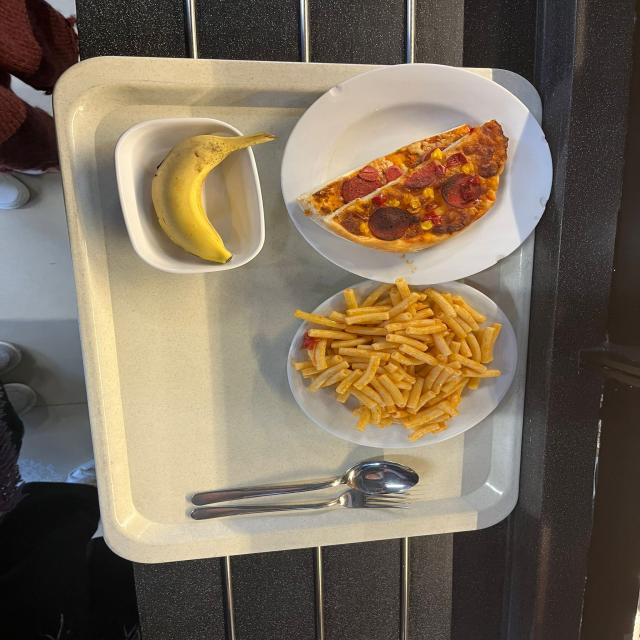ana_yemek: (284, 282, 514, 444), (294, 119, 508, 253)
yan_yemek: (114, 117, 266, 270)
